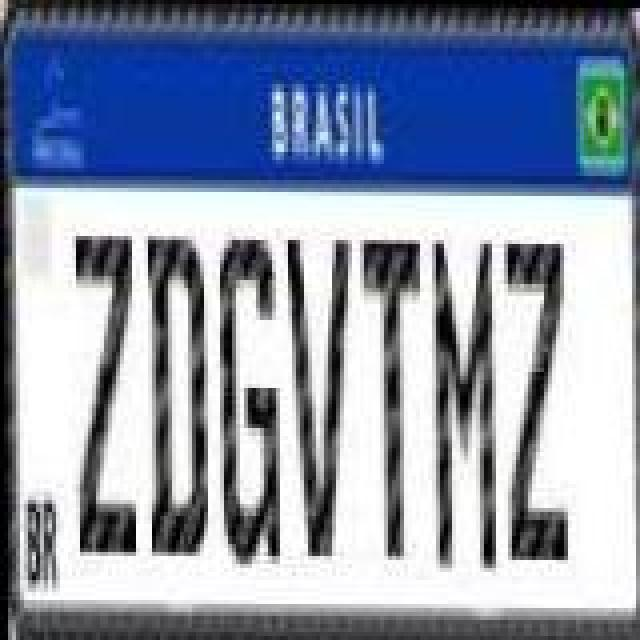D: (142, 232, 210, 556)
G: (214, 226, 282, 562)
M: (428, 238, 492, 574)
T: (360, 234, 424, 558)
V: (284, 228, 356, 564)
Z: (72, 232, 136, 556), (500, 236, 564, 560)
